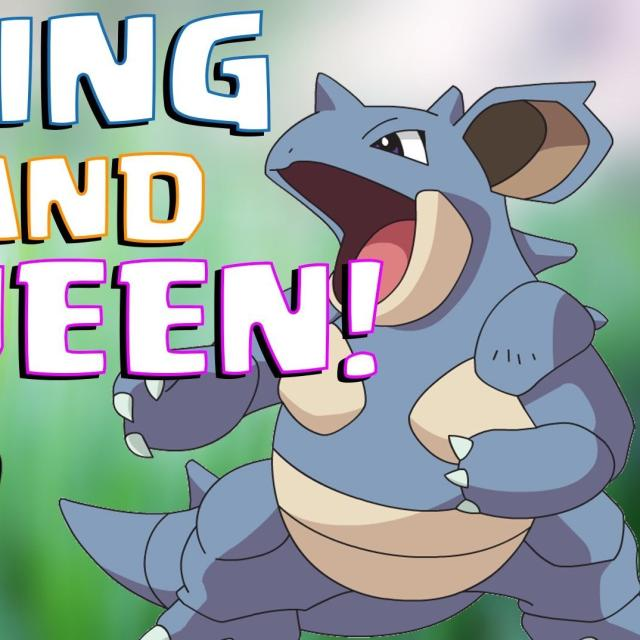Nidoqueen: (152, 63, 640, 640)
